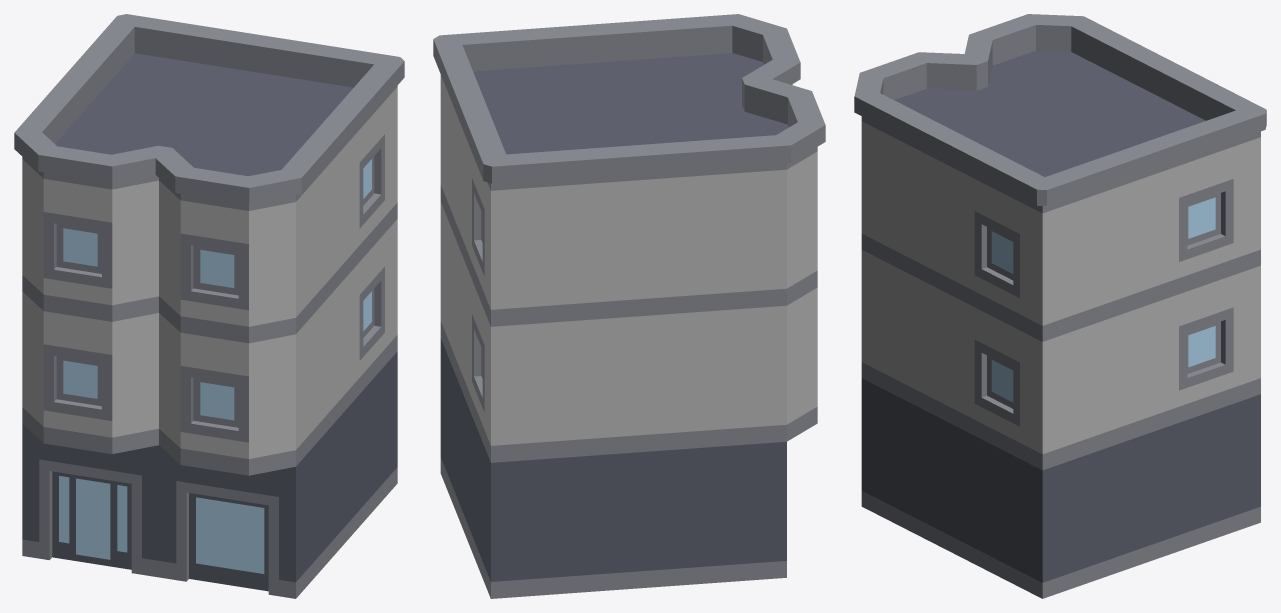
File: variant_18.fbx
3 renders of one model, left to right at view 1: azimuth 30°, elevation 25°; view 2: azimuth 150°, elevation 25°; view 3: azimuth 270°, elevation 25°, orthographic. The views are drawn at different scales.
Visible parts, largest first — view 1: small_buildingA; view 2: small_buildingA; view 3: small_buildingA.
Part boxes in pixels (x1=…): small_buildingA: x1=14, y1=14, x2=404, y2=598; small_buildingA: x1=433, y1=14, x2=825, y2=598; small_buildingA: x1=854, y1=14, x2=1266, y2=598.
Size of the model in its own units: 118 by 128 by 116.
